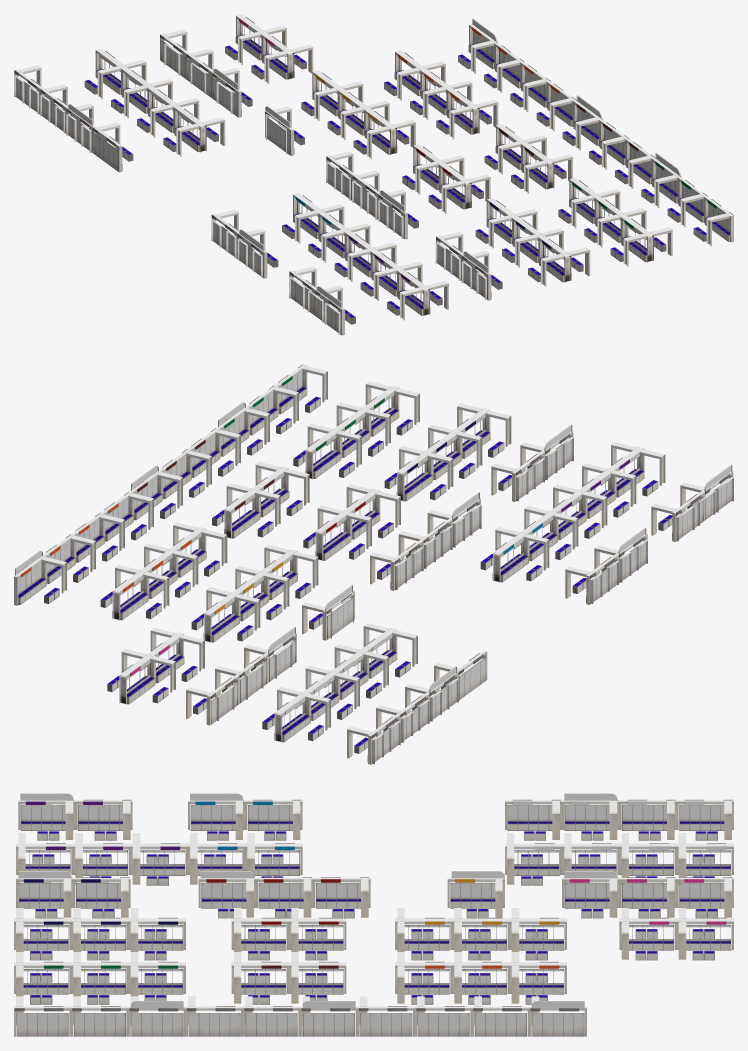
The model's file is WholeBooth.glb.
3 views of the same model, one above another, from view 1: azimuth 30°, elevation 25°; view 2: azimuth 150°, elevation 25°; view 3: azimuth 270°, elevation 25° (orthographic). The views are drawn at different scales.
Visible parts, largest first — view 1: Info1_Semiconductor.002; view 2: Info1_Semiconductor.002; view 3: Info1_Semiconductor.002.
Boxes of the visible parts, left/top/right/bottom form: Info1_Semiconductor.002: left=14, top=14, right=733, bottom=335; Info1_Semiconductor.002: left=14, top=364, right=733, bottom=764; Info1_Semiconductor.002: left=14, top=793, right=733, bottom=1036.
Bounding box in the file's own units: 47.52 × 3.73 × 69.05.
Materials: 3 (3 with a texture image).
